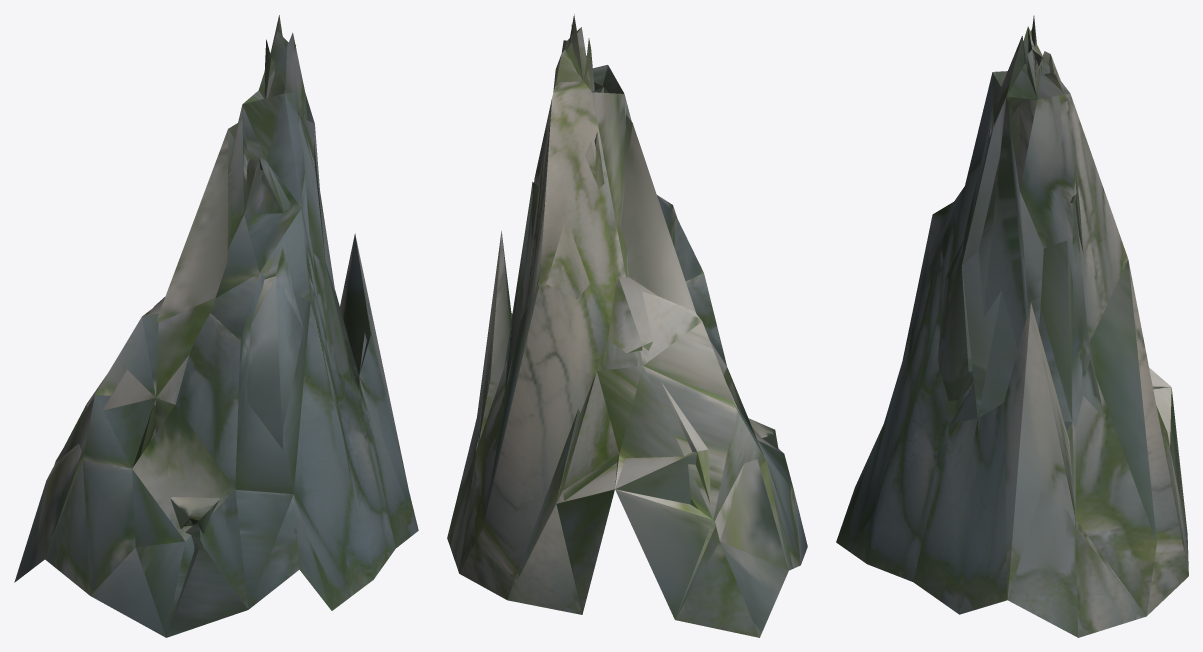
File: GraniteSpire_LOD2.fbx
The picture shows the model from 3 angles, left to right: view 1: azimuth 30°, elevation 25°; view 2: azimuth 150°, elevation 25°; view 3: azimuth 270°, elevation 25°; orthographic projection. The views are drawn at different scales.
Parts seen in each view (by area): view 1: GraniteSpire_LOD2; view 2: GraniteSpire_LOD2; view 3: GraniteSpire_LOD2.
Part boxes in pixels (box(x1,y1,x2,y2)): GraniteSpire_LOD2: box(14, 15, 418, 637); GraniteSpire_LOD2: box(447, 14, 807, 637); GraniteSpire_LOD2: box(836, 15, 1188, 637).
Size of the model in its own units: 27.61 by 41.75 by 23.23.
1 material, 1 textured.
